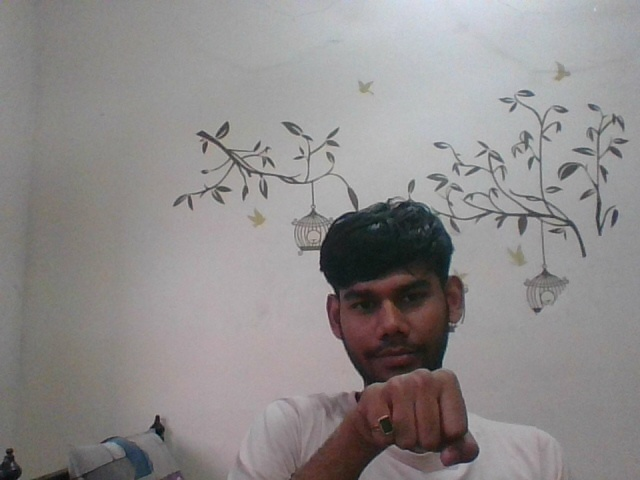Thank You: (349, 357, 478, 465)
